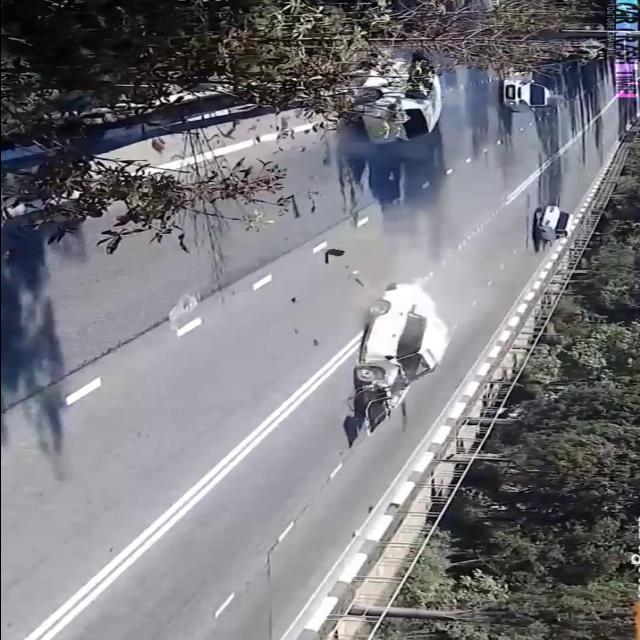accident: (306, 237, 466, 443), (337, 0, 459, 161)
